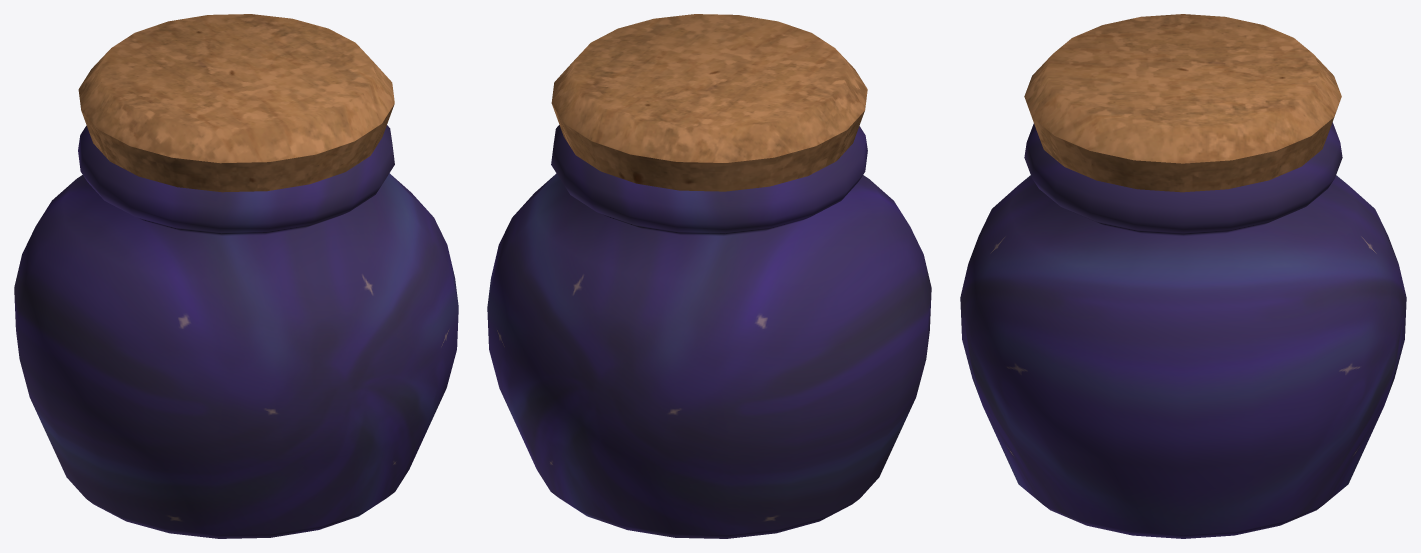
The model's file is SM_Potion_Props_Bottle_Medium_03_A.fbx.
3 views of the same model, side by side, from view 1: azimuth 30°, elevation 25°; view 2: azimuth 150°, elevation 25°; view 3: azimuth 270°, elevation 25° (orthographic).
Parts seen in each view (by area): view 1: SM_Potion_Props_Bottle_Medium_03_A_LOD0; view 2: SM_Potion_Props_Bottle_Medium_03_A_LOD0; view 3: SM_Potion_Props_Bottle_Medium_03_A_LOD0.
Part boxes in pixels (x1,y1,x2,y2): SM_Potion_Props_Bottle_Medium_03_A_LOD0: [14, 14, 458, 538]; SM_Potion_Props_Bottle_Medium_03_A_LOD0: [487, 14, 931, 538]; SM_Potion_Props_Bottle_Medium_03_A_LOD0: [960, 14, 1406, 538].
Size of what is drawn, in the model's own units: 15.07 by 14.94 by 15.07.
